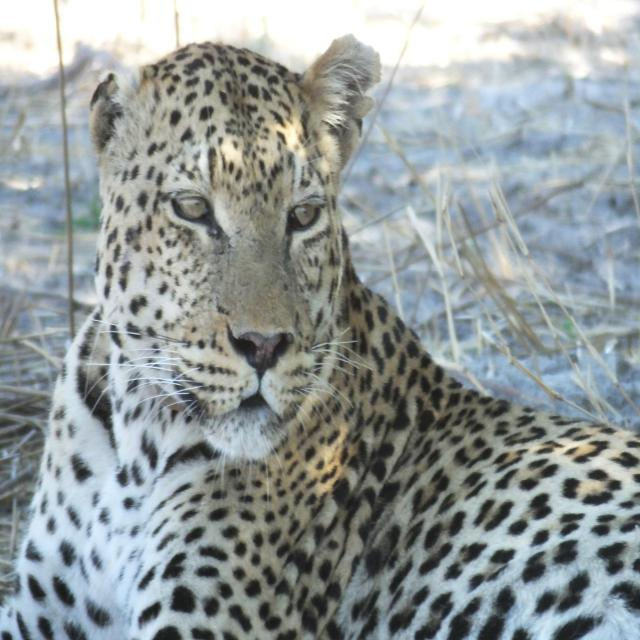Leopard: (0, 47, 640, 640)
